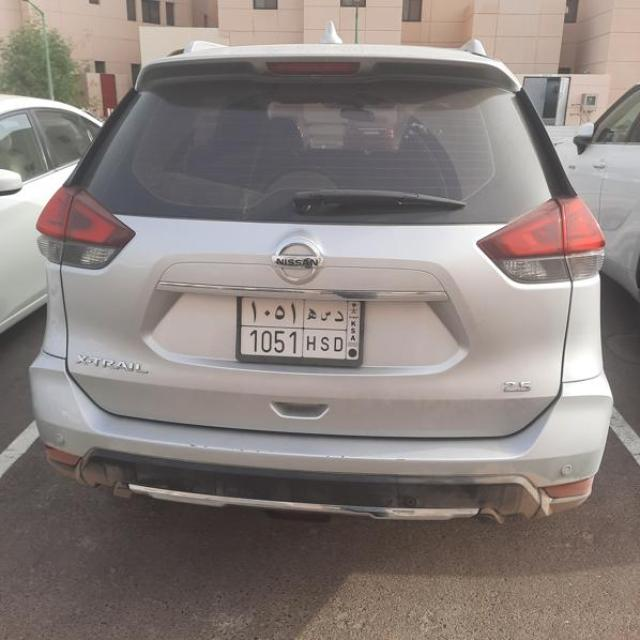license_plate: (239, 294, 362, 367)
